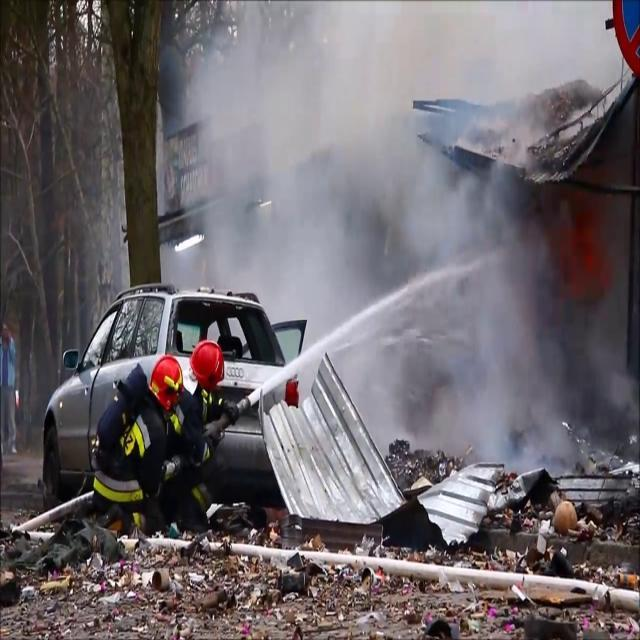Smoke: (162, 2, 634, 488)
